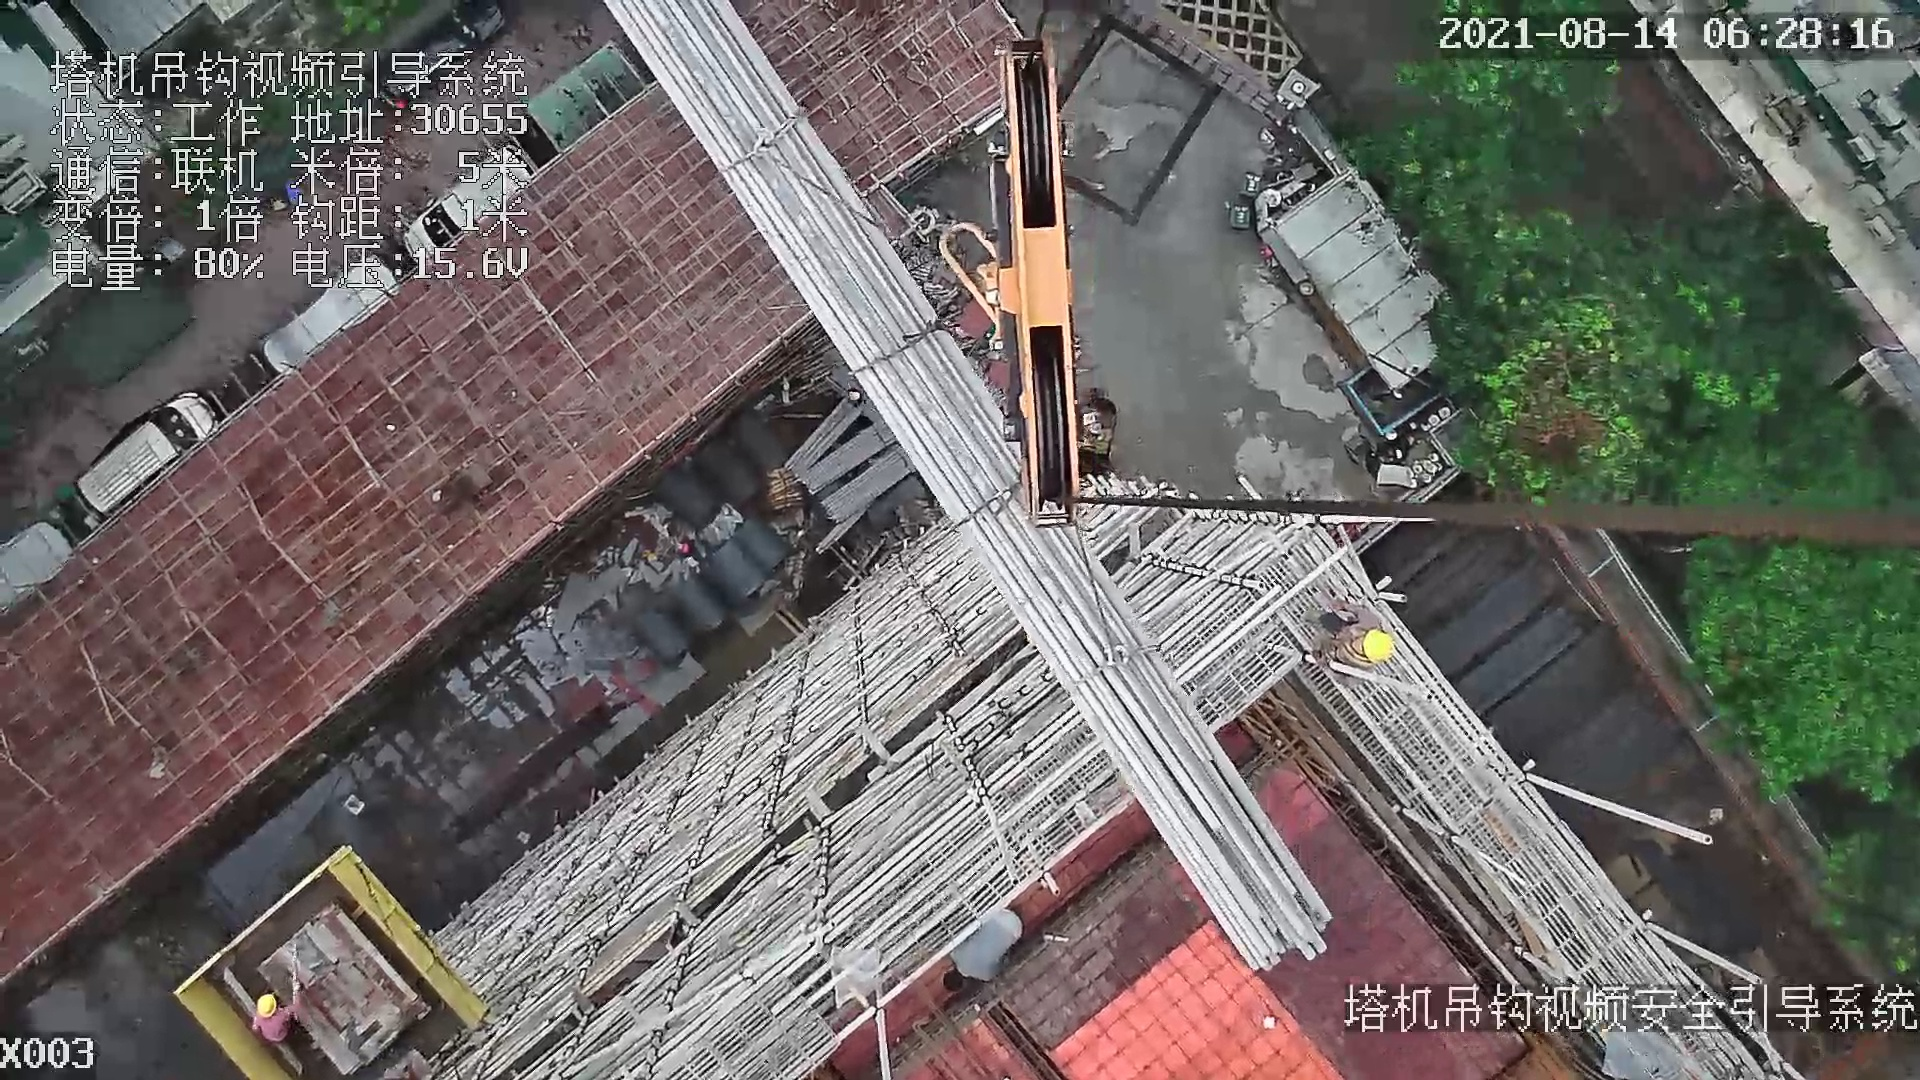helmet: (1351, 623, 1394, 671), (252, 985, 284, 1023)
hook: (993, 37, 1085, 528)
person: (1300, 598, 1401, 669), (246, 989, 306, 1042)
